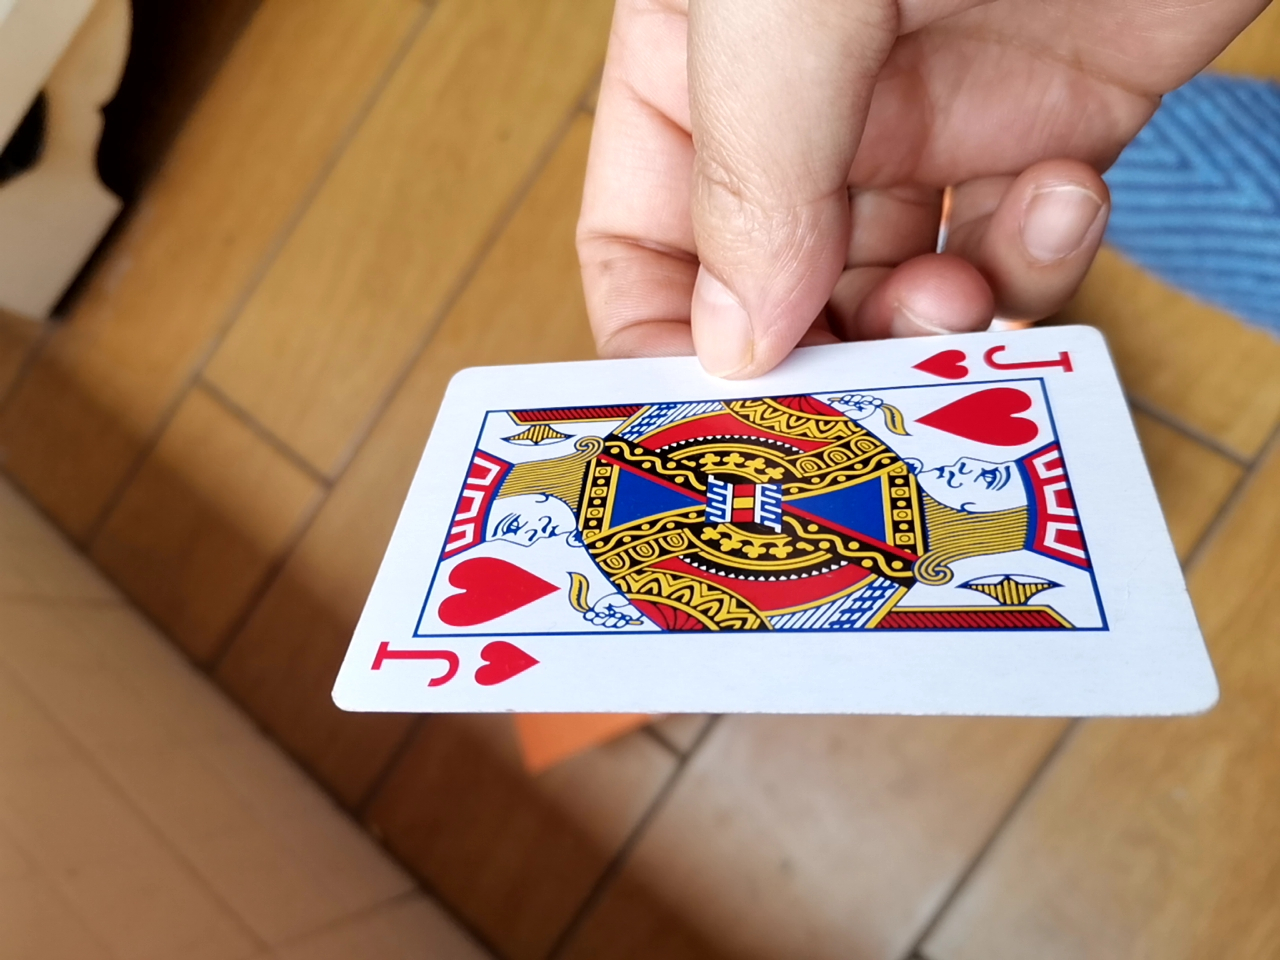hx j: (301, 324, 1213, 727)
